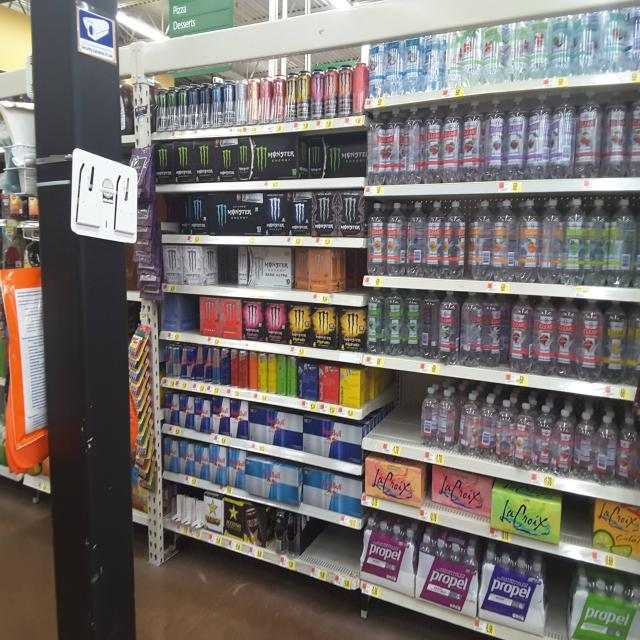empty: (377, 370, 420, 443), (297, 518, 351, 571), (340, 249, 368, 301), (204, 247, 237, 285)
